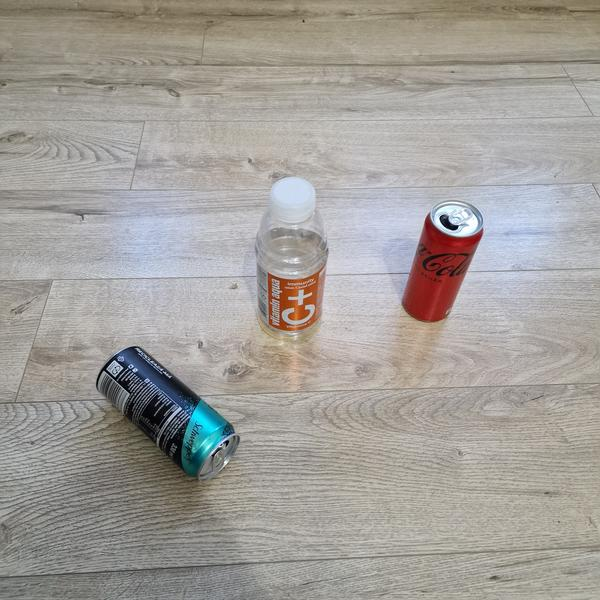can: (86, 333, 248, 489), (391, 190, 491, 330)
plastic_bottle: (251, 172, 333, 343)
